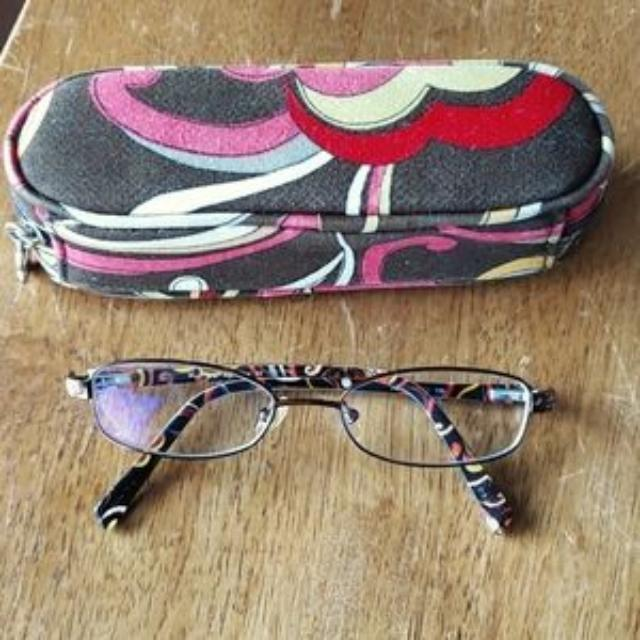mask: (61, 363, 562, 529)
